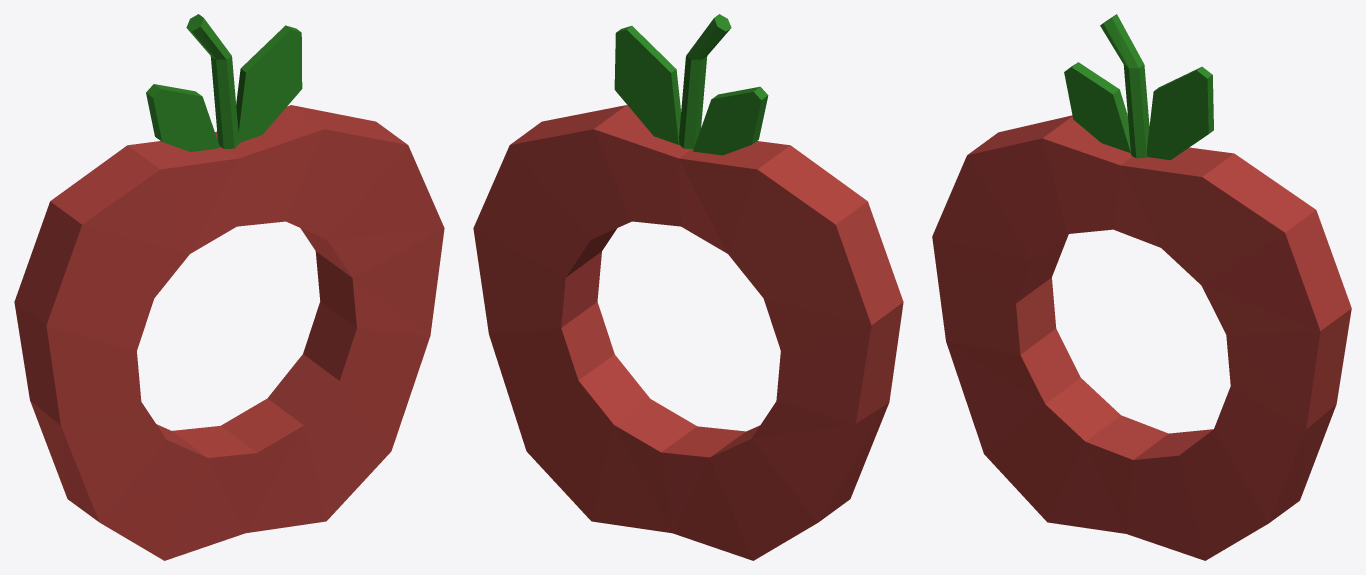
File: Apfel.fbx
3 views of the same model, side by side, from view 1: azimuth 30°, elevation 25°; view 2: azimuth 150°, elevation 25°; view 3: azimuth 330°, elevation 25° (orthographic). The views are drawn at different scales.
Parts seen in each view (by area): view 1: Cylinder; view 2: Cylinder; view 3: Cylinder.
Boxes of the visible parts, bbox=[...] form: Cylinder: bbox=[14, 14, 444, 560]; Cylinder: bbox=[473, 14, 903, 560]; Cylinder: bbox=[932, 14, 1351, 560].
Bounding box in the file's own units: 63.74 × 79.62 × 10.19.
